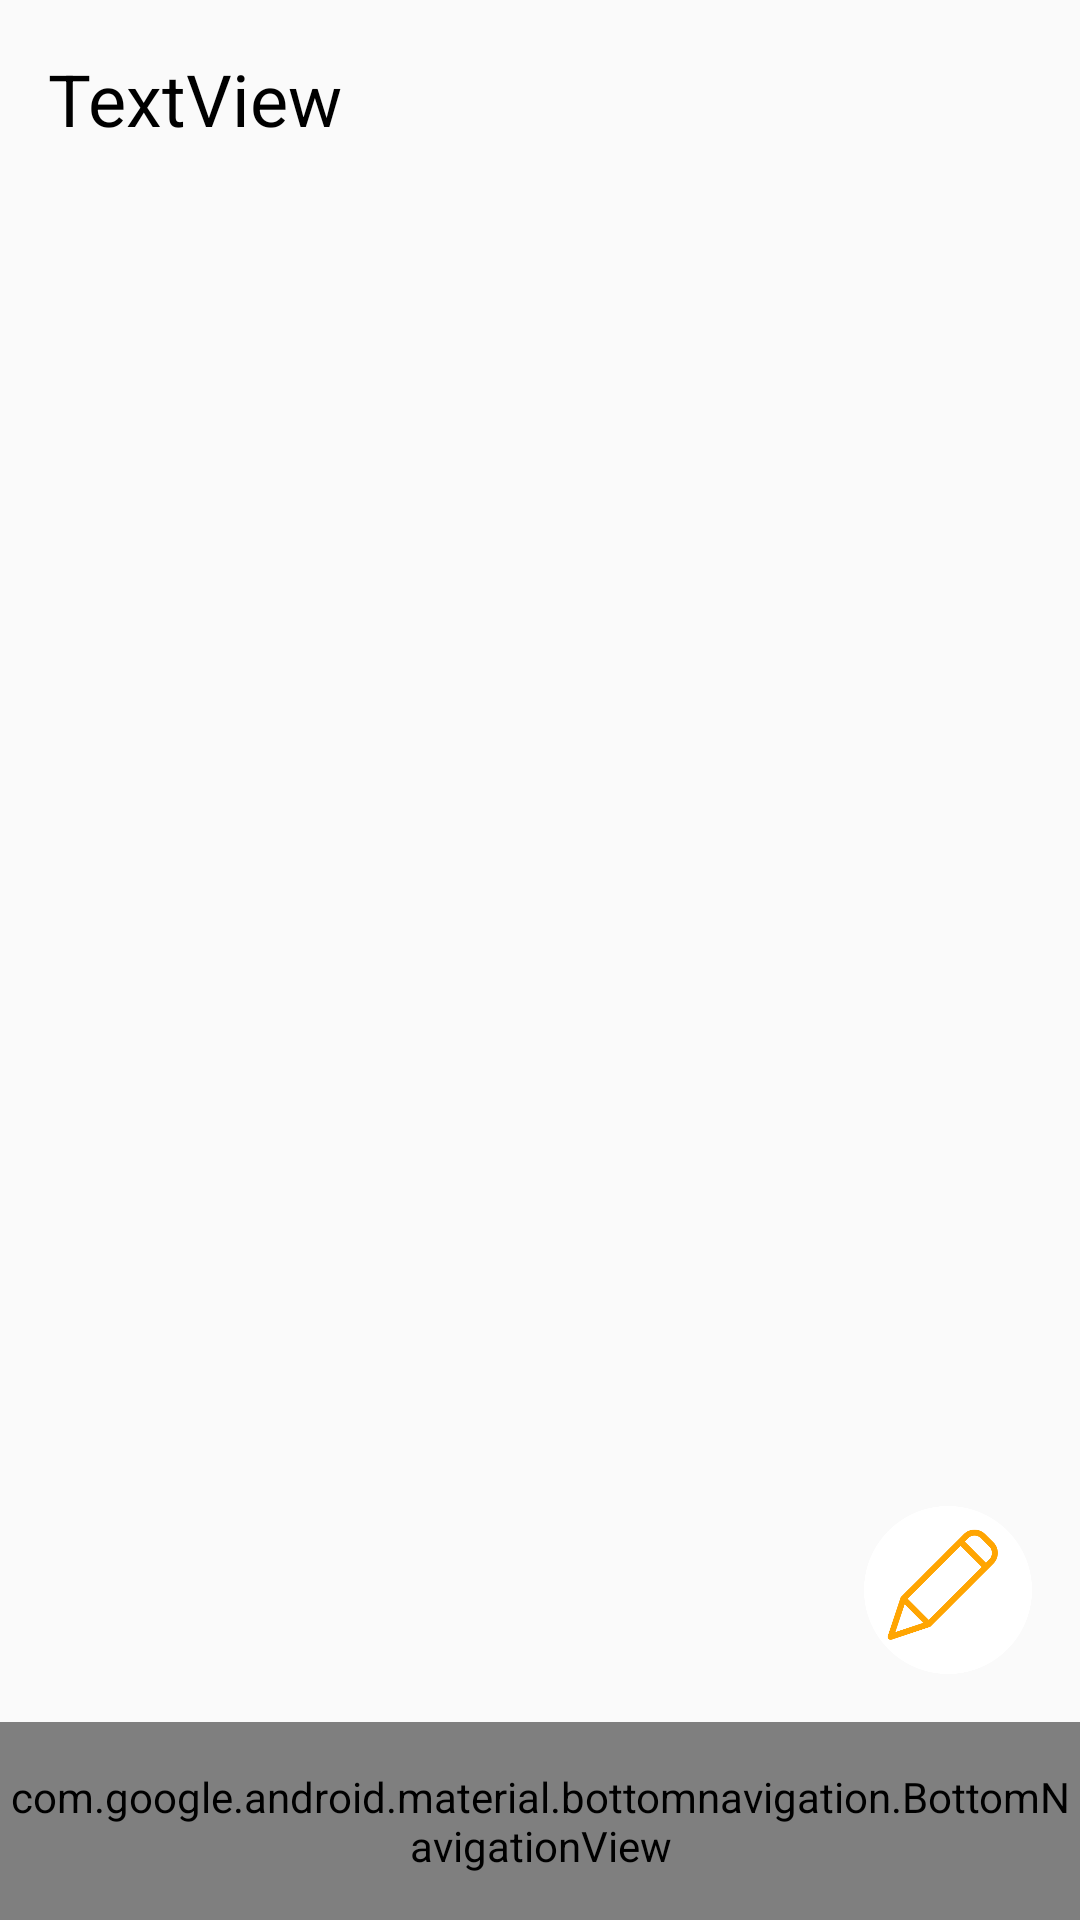

Named icons in this screenshot (1080px×1920px) and their centers, (x=x, y=y):
write: (x=943, y=1584)
